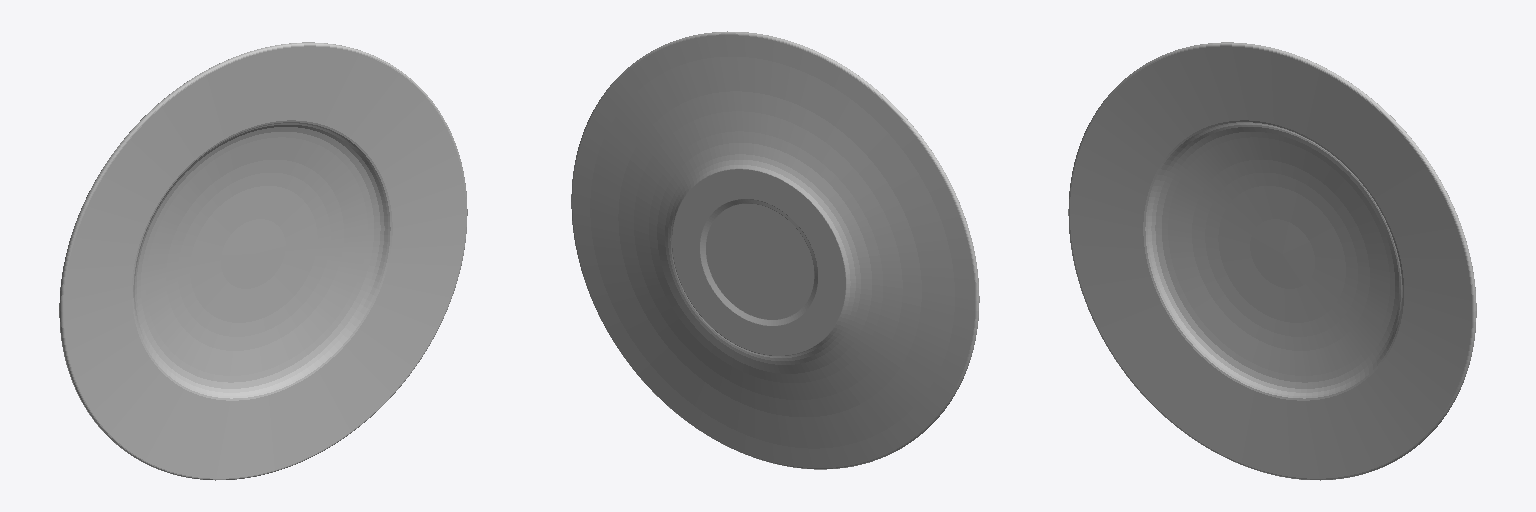
Rendered from Dinner Plate.obj.
3 views of the same model, side by side, from view 1: azimuth 30°, elevation 25°; view 2: azimuth 150°, elevation 25°; view 3: azimuth 330°, elevation 25° (orthographic).
Size of the model in its own units: 280 by 280 by 21.38.